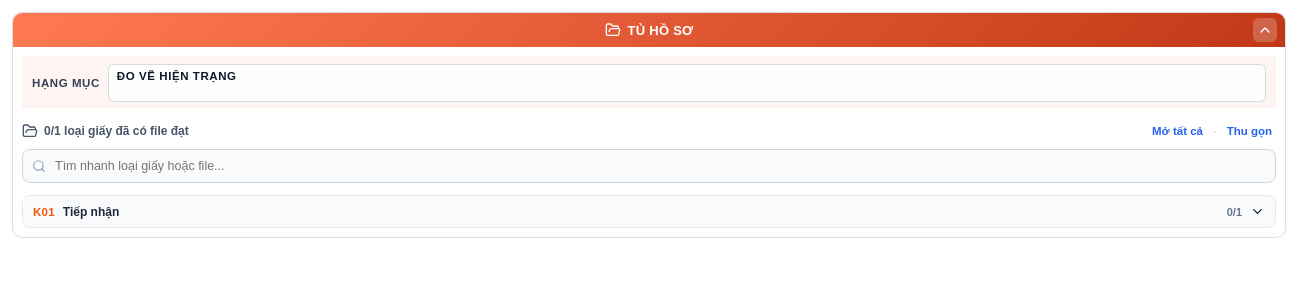
DocumentCabinet › đổi hạng mục thì nạp đúng tủ service line mới, không trộn hai quy trình
Select "Tách thửa pháp lý" in the dropdown named "Hạng mục của tủ hồ sơ" at (687, 83), box [108, 64, 1266, 102]
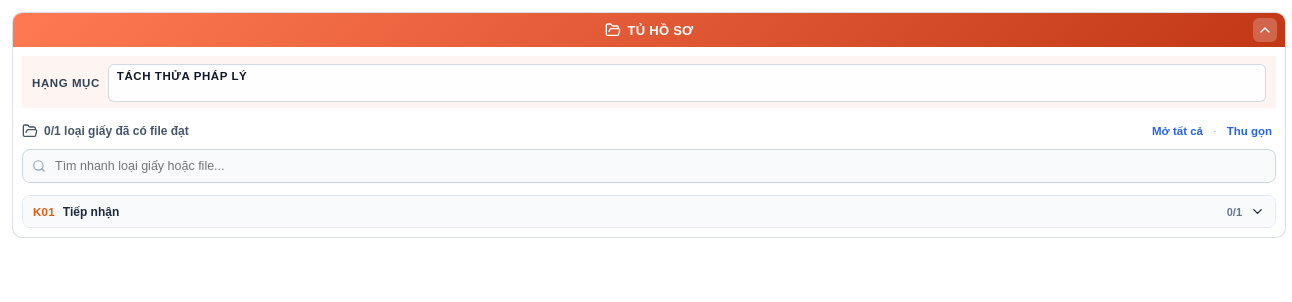
Click the button "K01 Tiếp nhận 0/1" at (91, 212), box [23, 196, 1275, 227]
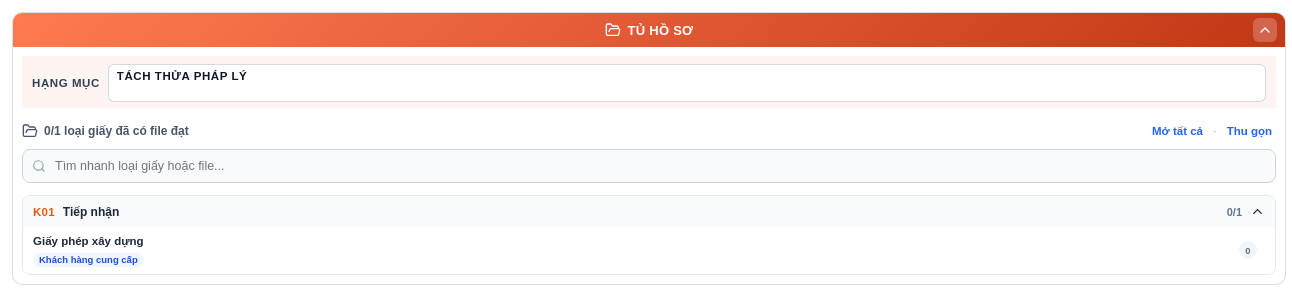
Expected: the text "Giấy phép xây dựng" is shown, [33, 235, 144, 247]
